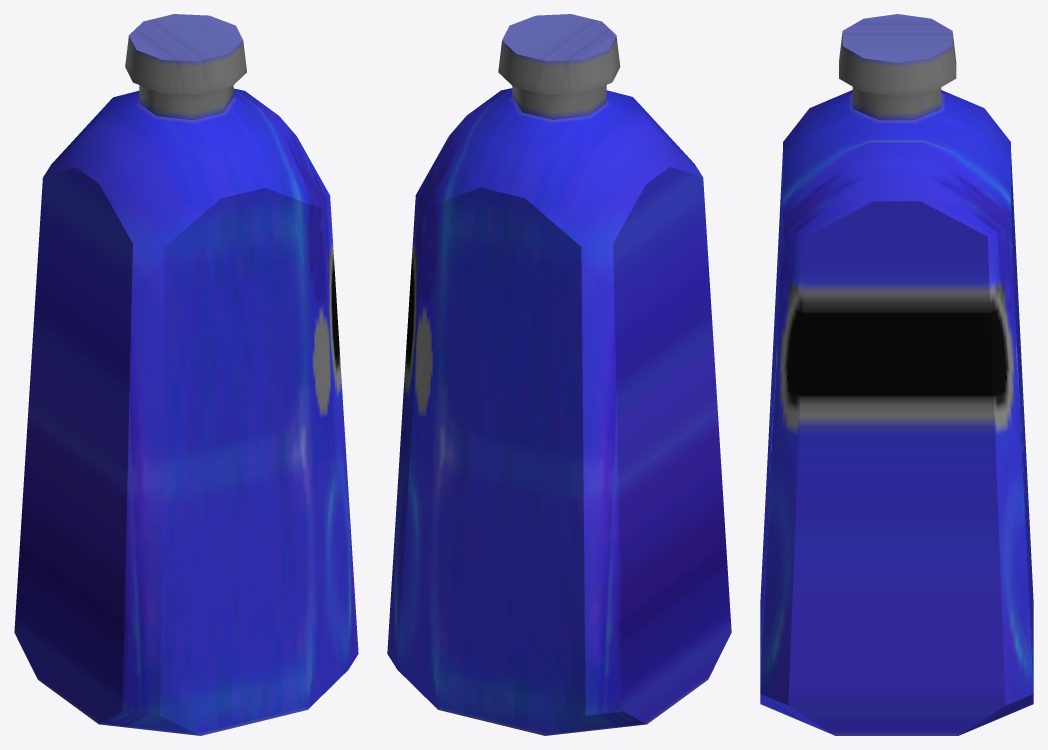
Rendered from eqp_bottle_s02_l1.fbx.
3 views of the same model, side by side, from view 1: azimuth 30°, elevation 25°; view 2: azimuth 150°, elevation 25°; view 3: azimuth 270°, elevation 25° (orthographic).
Parts seen in each view (by area): view 1: mesh_node; view 2: mesh_node; view 3: mesh_node.
Part boxes in pixels (<box>): mesh_node: <box>14,14,358,735</box>; mesh_node: <box>387,14,731,735</box>; mesh_node: <box>760,14,1033,735</box>.
Bounding box in the file's own units: 0.0412 × 0.1059 × 0.041.
Materials: 2 (2 with a texture image).
